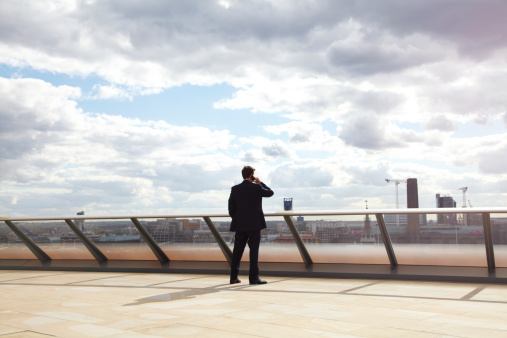em pe: (220, 155, 271, 287)
